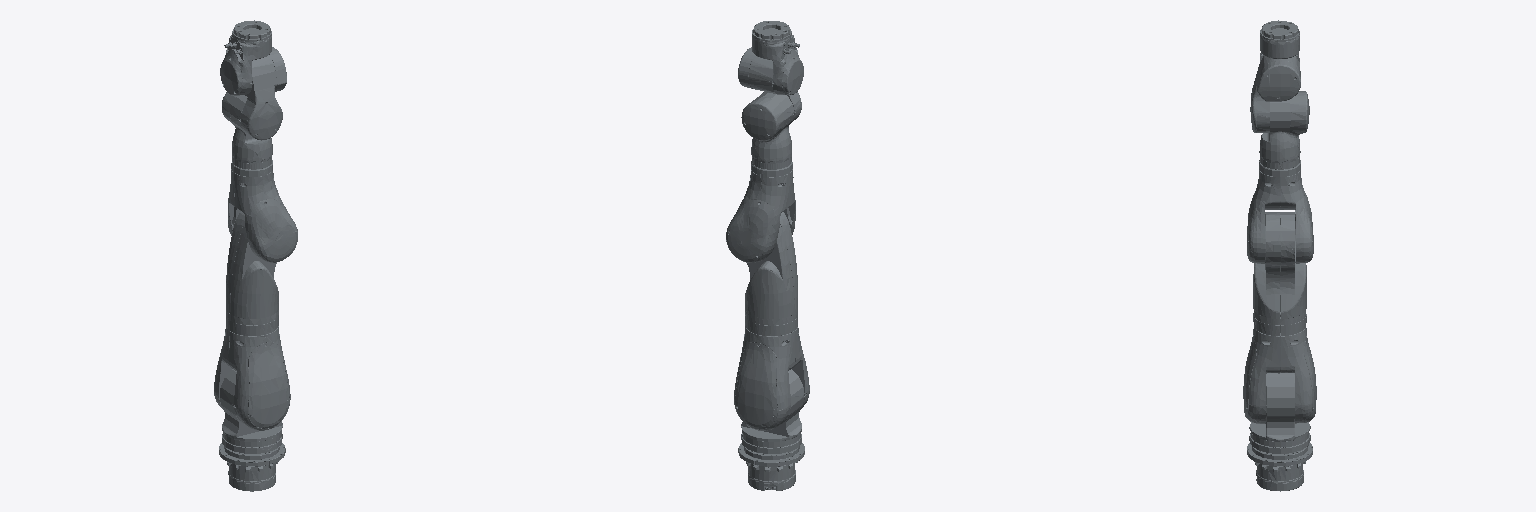
robot.urdf — 1.0.20032583-BR-R73P-R_01:
<?xml version="1.0" encoding="utf-8"?>
<!-- This URDF was automatically created by TianGong URDF Exporter! -->
<robot
  name="1.0.20032583-BR-R73P-R_01">
  <link
    name="base_link">
    <inertial>
      <origin
        xyz="-0.000198404231226939 -7.03249856599188E-05 0.00400030340741049"
        rpy="0 0 0" />
      <mass
        value="0.0849886456961704" />
      <inertia
        ixx="0.000109288715168861"
        ixy="-1.23153591744715E-07"
        ixz="-4.46522693256634E-10"
        iyy="0.000109862082585243"
        iyz="-4.25354694999256E-09"
        izz="0.000218250731859844" />
    </inertial>
    <visual>
      <origin
        xyz="-7.39738654958369E-20 6.95924757690463E-21 0.008"
        rpy="1.57079632681154 -9.64277199305774E-14 0.020292743167506" />
      <geometry>
        <mesh
          filename="../meshes/base_link.STL" />
      </geometry>
      <material
        name="6061-T6">
        <color
          rgba="0.506983280181885 0.531564235687256 0.550000011920929 1" />
      </material>
    </visual>
    <collision>
      <origin
        xyz="-7.39738654958369E-20 6.95924757690463E-21 0.008"
        rpy="1.57079632681154 -9.64277199305774E-14 0.020292743167506" />
      <geometry>
        <mesh
          filename="../meshes/base_link.STL" />
      </geometry>
    </collision>
  </link>
  <link
    name="J0_Link">
    <inertial>
      <origin
        xyz="4.69776733131665E-05 -5.89601553031412E-05 -0.0125019750059011"
        rpy="0 0 0" />
      <mass
        value="1.40747906319724" />
      <inertia
        ixx="0.00171449261552326"
        ixy="-9.66419698717888E-07"
        ixz="2.13175430413166E-06"
        iyy="0.00171490597006701"
        iyz="-4.00268959981367E-06"
        izz="0.00120580867073052" />
    </inertial>
    <visual>
      <origin
        xyz="0 0 0"
        rpy="1.57079632681154 -9.64277199305774E-14 0.020292743167506" />
      <geometry>
        <mesh
          filename="../meshes/J0_Link.STL" />
      </geometry>
      <material
        name="6061-T6">
        <color
          rgba="0.506983280181885 0.531564235687256 0.550000011920929 1" />
      </material>
    </visual>
    <collision>
      <origin
        xyz="0 0 0"
        rpy="1.57079632681154 -9.64277199305774E-14 0.020292743167506" />
      <geometry>
        <mesh
          filename="../meshes/J0_Link.STL" />
      </geometry>
    </collision>
  </link>
  <joint
    name="J0"
    type="fixed">
    <origin
      xyz="0 0 0.008"
      rpy="0 0 0" />
    <parent
      link="base_link" />
    <child
      link="J0_Link" />
    <axis
      xyz="0.0202871719959288 0.000411738906499205 -0.999794093148886" />
    <limit
      lower="0"
      upper="0"
      effort="0"
      velocity="0" />
  </joint>
  <link
    name="J1_Link">
    <inertial>
      <origin
        xyz="2.58075849699401E-06 2.62346374178406E-06 -0.0172500281488071"
        rpy="0 0 0" />
      <mass
        value="1.47297386882255" />
      <inertia
        ixx="0.00229632762557807"
        ixy="4.21206022031636E-08"
        ixz="1.98206820376253E-08"
        iyy="0.00288960579561278"
        iyz="1.58139082237298E-07"
        izz="0.00147816397659116" />
    </inertial>
    <visual>
      <origin
        xyz="-9.76672125061223E-18 -7.62138370703834E-17 -0.101999999999999"
        rpy="1.57079632681154 -9.64490870524783E-14 5.47333649215075E-14" />
      <geometry>
        <mesh
          filename="../meshes/J1_Link.STL" />
      </geometry>
      <material
        name="6061-T6">
        <color
          rgba="0.506983280181885 0.531564235687256 0.550000011920929 1" />
      </material>
    </visual>
    <collision>
      <origin
        xyz="-9.76672125061223E-18 -7.62138370703834E-17 -0.101999999999999"
        rpy="1.57079632681154 -9.64490870524783E-14 5.47333649215075E-14" />
      <geometry>
        <mesh
          filename="../meshes/J1_Link.STL" />
      </geometry>
    </collision>
  </link>
  <joint
    name="J1"
    type="revolute">
    <origin
      xyz="0 0 0.102"
      rpy="0 0 0.020293" />
    <parent
      link="J0_Link" />
    <child
      link="J1_Link" />
    <axis
      xyz="0 0 1" />
    <limit
      lower="-3.1416"
      upper="3.1416"
      effort="120"
      velocity="3.1416" />
  </joint>
  <link
    name="J2_Link">
    <inertial>
      <origin
        xyz="-2.54102002496899E-06 -0.0452674922945121 4.82546030551042E-05"
        rpy="0 0 0" />
      <mass
        value="3.02756594440556" />
      <inertia
        ixx="0.0107828576705499"
        ixy="-2.59716649754792E-06"
        ixz="4.49835322696497E-06"
        iyy="0.00541157473434907"
        iyz="-5.28200126019169E-05"
        izz="0.00893813177400436" />
    </inertial>
    <visual>
      <origin
        xyz="9.89324994382832E-18 0.1020000000002 -1.27236585979412E-13"
        rpy="-3.1415926535744 1.86732055463884E-14 -9.64251668420478E-14" />
      <geometry>
        <mesh
          filename="../meshes/J2_Link.STL" />
      </geometry>
      <material
        name="6061-T6">
        <color
          rgba="0.506983280181885 0.531564235687256 0.550000011920929 1" />
      </material>
    </visual>
    <collision>
      <origin
        xyz="9.89324994382832E-18 0.1020000000002 -1.27236585979412E-13"
        rpy="-3.1415926535744 1.86732055463884E-14 -9.64251668420478E-14" />
      <geometry>
        <mesh
          filename="../meshes/J2_Link.STL" />
      </geometry>
    </collision>
  </link>
  <joint
    name="J2"
    type="revolute">
    <origin
      xyz="0 0 0"
      rpy="-1.5708 0 0" />
    <parent
      link="J1_Link" />
    <child
      link="J2_Link" />
    <axis
      xyz="0 0 1" />
    <limit
      lower="-1.745"
      upper="1.745"
      effort="120"
      velocity="3.1416" />
  </joint>
  <link
    name="J3_Link">
    <inertial>
      <origin
        xyz="0.00459568867900225 -7.11579393770379E-07 -0.0785732132928111"
        rpy="0 0 0" />
      <mass
        value="2.97888928341343" />
      <inertia
        ixx="0.012126006758747"
        ixy="-2.19796335883635E-07"
        ixz="-0.00139256232324466"
        iyy="0.0126018228784289"
        iyz="1.91957374586493E-07"
        izz="0.00300180656112966" />
    </inertial>
    <visual>
      <origin
        xyz="1.62824404451402E-13 3.55648981622027E-13 -0.405500000000155"
        rpy="1.57079632681406 -1.00724355071857E-12 -4.88614845198937E-13" />
      <geometry>
        <mesh
          filename="../meshes/J3_Link.STL" />
      </geometry>
      <material
        name="6061-T6">
        <color
          rgba="0.506983280181885 0.531564235687256 0.550000011920929 1" />
      </material>
    </visual>
    <collision>
      <origin
        xyz="1.62824404451402E-13 3.55648981622027E-13 -0.405500000000155"
        rpy="1.57079632681406 -1.00724355071857E-12 -4.88614845198937E-13" />
      <geometry>
        <mesh
          filename="../meshes/J3_Link.STL" />
      </geometry>
    </collision>
  </link>
  <joint
    name="J3"
    type="revolute">
    <origin
      xyz="0 -0.3035 0"
      rpy="1.5708 0 0" />
    <parent
      link="J2_Link" />
    <child
      link="J3_Link" />
    <axis
      xyz="0 0 1" />
    <limit
      lower="-3.1416"
      upper="3.1416"
      effort="60"
      velocity="3.1416" />
  </joint>
  <link
    name="J4_Link">
    <inertial>
      <origin
        xyz="-0.0134728782064502 -0.0489928104791285 0.00512554522956257"
        rpy="0 0 0" />
      <mass
        value="0.928286122566677" />
      <inertia
        ixx="0.00276080516652775"
        ixy="-0.000384614807628975"
        ixz="-6.26780335548327E-05"
        iyy="0.00133232006260208"
        iyz="-0.000239876154164768"
        izz="0.00237960909006585" />
    </inertial>
    <visual>
      <origin
        xyz="-0.0224999999993104 0.405500000000183 -4.82180833021479E-12"
        rpy="-3.14159265357134 4.88442619683838E-13 -2.24938080314874E-12" />
      <geometry>
        <mesh
          filename="../meshes/J4_Link.STL" />
      </geometry>
      <material
        name="6061-T6">
        <color
          rgba="0.506983280181885 0.531564235687256 0.550000011920929 1" />
      </material>
    </visual>
    <collision>
      <origin
        xyz="-0.0224999999993104 0.405500000000183 -4.82180833021479E-12"
        rpy="-3.14159265357134 4.88442619683838E-13 -2.24938080314874E-12" />
      <geometry>
        <mesh
          filename="../meshes/J4_Link.STL" />
      </geometry>
    </collision>
  </link>
  <joint
    name="J4"
    type="revolute">
    <origin
      xyz="0.0225 0 0"
      rpy="-1.5708 0 0" />
    <parent
      link="J3_Link" />
    <child
      link="J4_Link" />
    <axis
      xyz="0 0 1" />
    <limit
      lower="-1.134"
      upper="2.705"
      effort="60"
      velocity="3.1416" />
  </joint>
  <link
    name="J5_Link">
    <inertial>
      <origin
        xyz="-1.75879158129273E-06 0.00984002311928359 -0.0305027044376153"
        rpy="0 0 0" />
      <mass
        value="1.0729122246467" />
      <inertia
        ixx="0.0019196654951274"
        ixy="1.23782156423982E-07"
        ixz="2.76877803017173E-07"
        iyy="0.00186069742779801"
        iyz="-0.000319450215721714"
        izz="0.000705437975949922" />
    </inertial>
    <visual>
      <origin
        xyz="9.41994112834616E-15 -5.07113309658209E-13 -0.632000000001165"
        rpy="1.57079632681154 -9.64615892587797E-14 -5.9887554984539E-12" />
      <geometry>
        <mesh
          filename="../meshes/J5_Link.STL" />
      </geometry>
      <material
        name="6061-T6">
        <color
          rgba="0.506983280181885 0.531564235687256 0.550000011920929 1" />
      </material>
    </visual>
    <collision>
      <origin
        xyz="9.41994112834616E-15 -5.07113309658209E-13 -0.632000000001165"
        rpy="1.57079632681154 -9.64615892587797E-14 -5.9887554984539E-12" />
      <geometry>
        <mesh
          filename="../meshes/J5_Link.STL" />
      </geometry>
    </collision>
  </link>
  <joint
    name="J5"
    type="revolute">
    <origin
      xyz="-0.0225 -0.2265 0"
      rpy="1.5708 0 0" />
    <parent
      link="J4_Link" />
    <child
      link="J5_Link" />
    <axis
      xyz="0 0 1" />
    <limit
      lower="-3.1416"
      upper="3.1416"
      effort="30"
      velocity="5.235" />
  </joint>
  <link
    name="J6_Link">
    <inertial>
      <origin
        xyz="0.0544549404769459 0.0100568267424518 -0.0100380910618933"
        rpy="0 0 0" />
      <mass
        value="1.05205935586348" />
      <inertia
        ixx="0.000871275823611654"
        ixy="-0.000206284211431995"
        ixz="-0.000438711986805129"
        iyy="0.00181267395925167"
        iyz="-8.76946647429996E-05"
        izz="0.00177912238734451" />
    </inertial>
    <visual>
      <origin
        xyz="-0.632000000001165 3.94931106689622E-14 -5.05032446398726E-13"
        rpy="-3.14159265357315 5.9887554984539E-12 1.57079632679475" />
      <geometry>
        <mesh
          filename="../meshes/J6_Link.STL" />
      </geometry>
      <material
        name="6061-T6">
        <color
          rgba="0.506983280181885 0.531564235687256 0.550000011920929 1" />
      </material>
    </visual>
    <collision>
      <origin
        xyz="-0.632000000001165 3.94931106689622E-14 -5.05032446398726E-13"
        rpy="-3.14159265357315 5.9887554984539E-12 1.57079632679475" />
      <geometry>
        <mesh
          filename="../meshes/J6_Link.STL" />
      </geometry>
    </collision>
  </link>
  <joint
    name="J6"
    type="revolute">
    <origin
      xyz="0 0 0"
      rpy="-1.5708 -1.5708 0" />
    <parent
      link="J5_Link" />
    <child
      link="J6_Link" />
    <axis
      xyz="0 0 1" />
    <limit
      lower="-1.57"
      upper="1.57"
      effort="30"
      velocity="5.235" />
  </joint>
  <link
    name="J7_Link">
    <inertial>
      <origin
        xyz="0.0364481222489964 2.47009794770317E-07 -0.0141917275731606"
        rpy="0 0 0" />
      <mass
        value="0.33236675363901" />
      <inertia
        ixx="0.000282512931210584"
        ixy="1.67413265216828E-09"
        ixz="-0.000141043299676491"
        iyy="0.000535298109668155"
        iyz="1.19633812789186E-07"
        izz="0.000509753265151525" />
    </inertial>
    <visual>
      <origin
        xyz="-0.707000000001995 1.31952381321709E-10 3.05121437207138E-10"
        rpy="-1.57079632673348 -1.57079632677662 0" />
      <geometry>
        <mesh
          filename="../meshes/J7_Link.STL" />
      </geometry>
      <material
        name="6061-T6">
        <color
          rgba="0.506983280181885 0.531564235687256 0.550000011920929 1" />
      </material>
    </visual>
    <collision>
      <origin
        xyz="-0.707000000001995 1.31952381321709E-10 3.05121437207138E-10"
        rpy="-1.57079632673348 -1.57079632677662 0" />
      <geometry>
        <mesh
          filename="../meshes/J7_Link.STL" />
      </geometry>
    </collision>
  </link>
  <joint
    name="J7"
    type="revolute">
    <origin
      xyz="0.075 0 0"
      rpy="-1.5708 0 0" />
    <parent
      link="J6_Link" />
    <child
      link="J7_Link" />
    <axis
      xyz="0 0 1" />
    <limit
      lower="-1.31"
      upper="1.57"
      effort="30"
      velocity="5.235" />
  </joint>
</robot>

--- Facts derived from the render (not from the file) ---
Views: 3 orthographic renders of the robot side by side, from view 1: azimuth 30°, elevation 25°; view 2: azimuth 150°, elevation 25°; view 3: azimuth 270°, elevation 25°.
Robot: 1.0.20032583-BR-R73P-R_01 — 9 links, 8 joints (7 revolute, 1 fixed); root link base_link; default pose: all joints at 0.
Visible links, largest first — view 1: J2_Link, J3_Link, J4_Link, J6_Link, J7_Link, J5_Link, J1_Link, J0_Link, base_link; view 2: J2_Link, J3_Link, J4_Link, J5_Link, J7_Link, J1_Link, J0_Link, J6_Link, base_link; view 3: J3_Link, J2_Link, J4_Link, J1_Link, J5_Link, J6_Link, J0_Link, J7_Link, base_link.
Boxes of the visible links, x1,y1,x2,y2 form: J2_Link: [214, 326, 290, 430]; J3_Link: [226, 211, 278, 335]; J4_Link: [228, 169, 297, 262]; J6_Link: [240, 47, 286, 140]; J7_Link: [220, 20, 271, 95]; J5_Link: [222, 92, 272, 176]; J1_Link: [220, 369, 282, 453]; J0_Link: [224, 446, 279, 491]; base_link: [219, 443, 285, 466]; J2_Link: [734, 326, 809, 430]; J3_Link: [745, 212, 797, 335]; J4_Link: [726, 169, 795, 262]; J5_Link: [741, 92, 793, 176]; J7_Link: [752, 21, 803, 94]; J1_Link: [741, 369, 804, 453]; J0_Link: [744, 446, 799, 490]; J6_Link: [738, 47, 801, 122]; base_link: [738, 443, 804, 466]; J3_Link: [1253, 212, 1306, 335]; J2_Link: [1243, 328, 1316, 423]; J4_Link: [1247, 170, 1313, 263]; J1_Link: [1249, 373, 1310, 453]; J5_Link: [1259, 91, 1309, 176]; J6_Link: [1250, 56, 1300, 132]; J0_Link: [1252, 447, 1307, 491]; J7_Link: [1260, 20, 1299, 61]; base_link: [1247, 443, 1312, 466].
Size in the robot's own frame: 0.1236 by 0.1254 by 0.8525 metres.
Meshes: 9 distinct files referenced, 9 mesh visuals loaded (9 binary STL).
